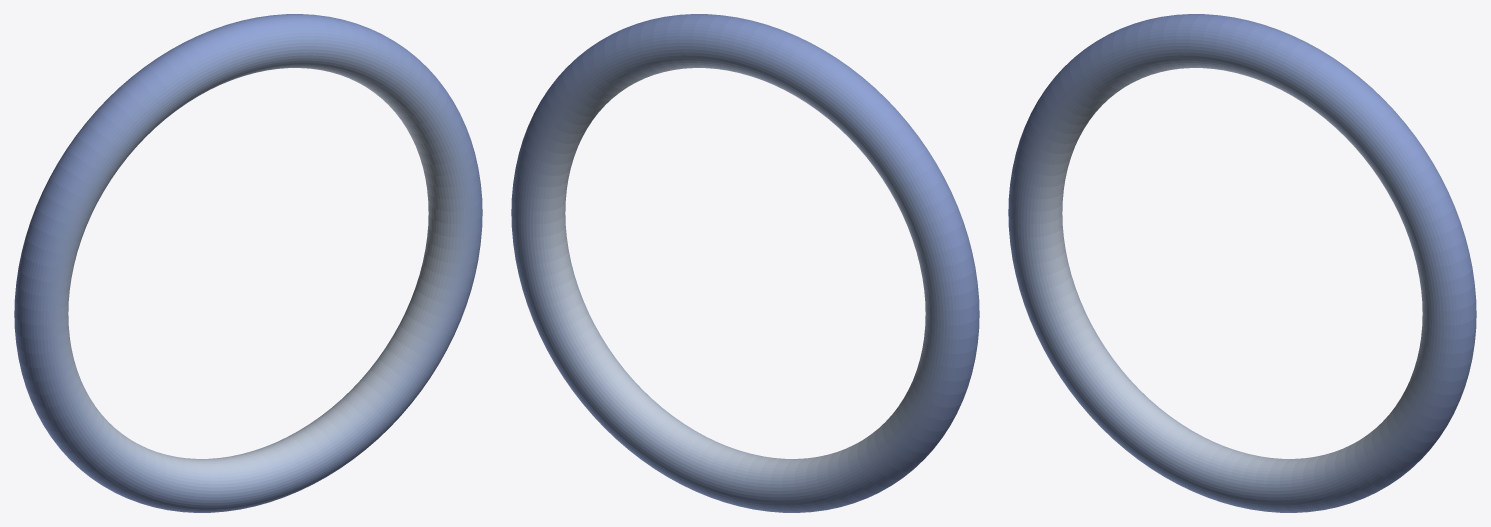
The picture shows the model from 3 angles, left to right: view 1: azimuth 30°, elevation 25°; view 2: azimuth 150°, elevation 25°; view 3: azimuth 330°, elevation 25°; orthographic projection.
Visible parts, largest first — view 1: world; view 2: world; view 3: world.
Boxes of the visible parts, left/top/right/bottom form: world: left=14, top=14, right=482, bottom=512; world: left=511, top=14, right=979, bottom=512; world: left=1008, top=14, right=1476, bottom=512.
Size of the model in its own units: 28.44 by 28.44 by 2.88.
